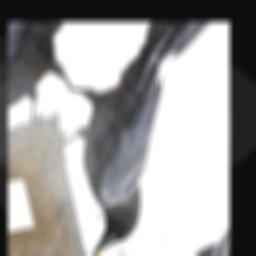Crow: (14, 22, 205, 256)
